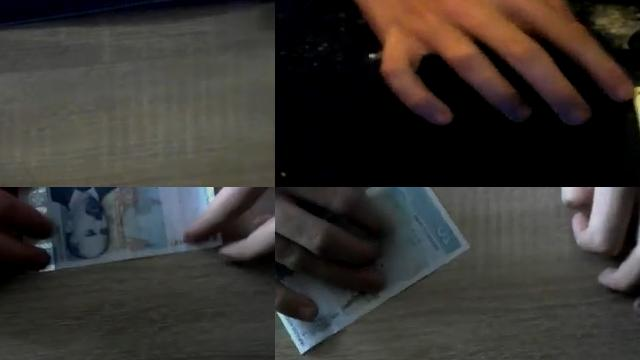20leva: (275, 187, 471, 356), (21, 187, 215, 271)
